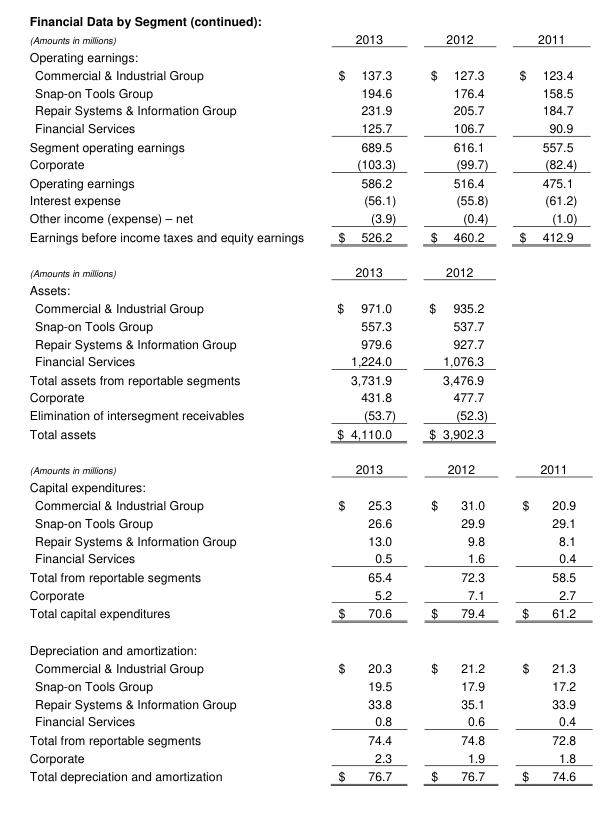table: (28, 29, 576, 783)
table column: (28, 29, 319, 783), (319, 29, 411, 783), (411, 29, 503, 783), (503, 29, 576, 783)
table column header: (28, 29, 576, 47)
table projected row header: (28, 630, 576, 658), (28, 47, 576, 65), (28, 280, 576, 298), (28, 477, 576, 495)
table row: (28, 602, 576, 630), (28, 630, 576, 658), (28, 226, 576, 253), (28, 253, 576, 280), (28, 423, 576, 450), (28, 450, 576, 477), (28, 747, 576, 766), (28, 29, 576, 47), (28, 47, 576, 65), (28, 82, 576, 100), (28, 100, 576, 118), (28, 118, 576, 136), (28, 136, 576, 154), (28, 154, 576, 172), (28, 172, 576, 190), (28, 190, 576, 208), (28, 208, 576, 226), (28, 280, 576, 298), (28, 298, 576, 316), (28, 333, 576, 351), (28, 351, 576, 369), (28, 369, 576, 387), (28, 387, 576, 405), (28, 405, 576, 423), (28, 477, 576, 495), (28, 495, 576, 513), (28, 530, 576, 548), (28, 548, 576, 566), (28, 566, 576, 584), (28, 584, 576, 602), (28, 658, 576, 676), (28, 676, 576, 694), (28, 711, 576, 729), (28, 729, 576, 747), (28, 65, 576, 82), (28, 316, 576, 333), (28, 513, 576, 530), (28, 694, 576, 711), (28, 766, 576, 783)
